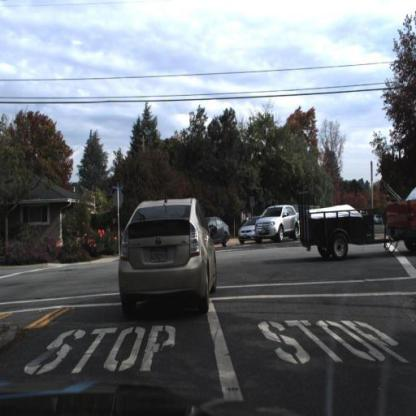car: (295, 159, 416, 272), (119, 197, 219, 317), (256, 205, 297, 245), (239, 214, 264, 241)
